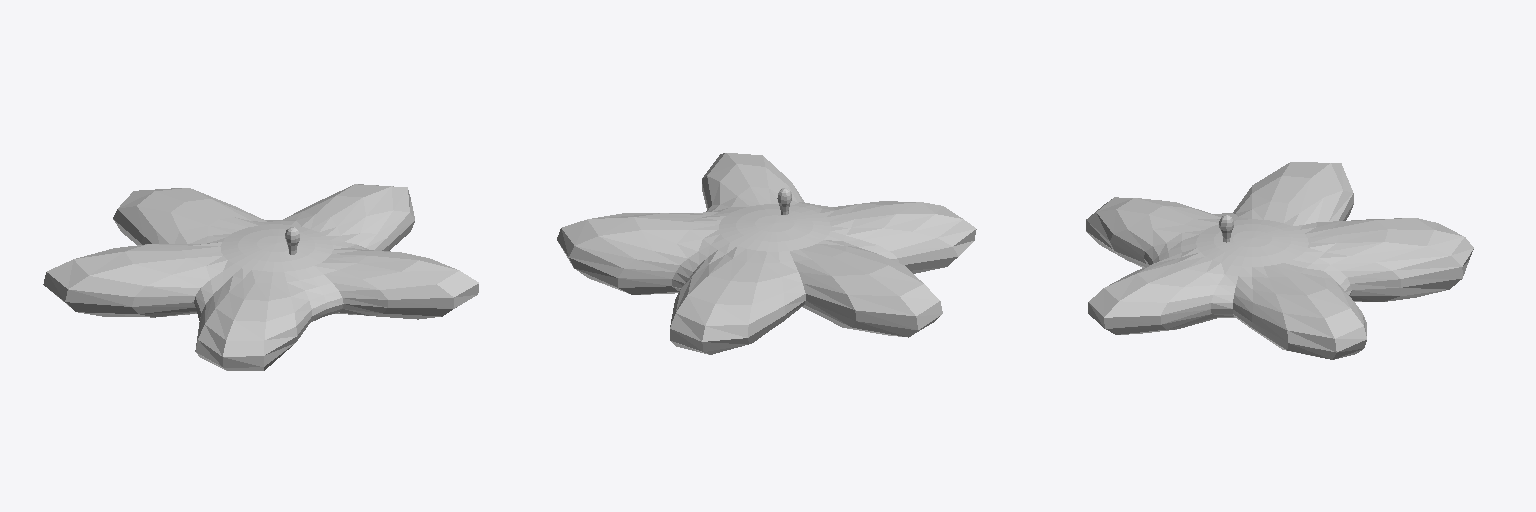
Rendered from RedHibiscus.obj.
3 renders of one model, left to right at view 1: azimuth 30°, elevation 25°; view 2: azimuth 150°, elevation 25°; view 3: azimuth 270°, elevation 25°, orthographic.
Parts seen in each view (by area): view 1: Sphere001; view 2: Sphere001; view 3: Sphere001.
Boxes of the visible parts, <box> form: Sphere001: <box>43,184,478,370</box>; Sphere001: <box>557,153,976,354</box>; Sphere001: <box>1086,162,1473,359</box>.
Size of the model in its own units: 6.02 by 1.43 by 5.53.